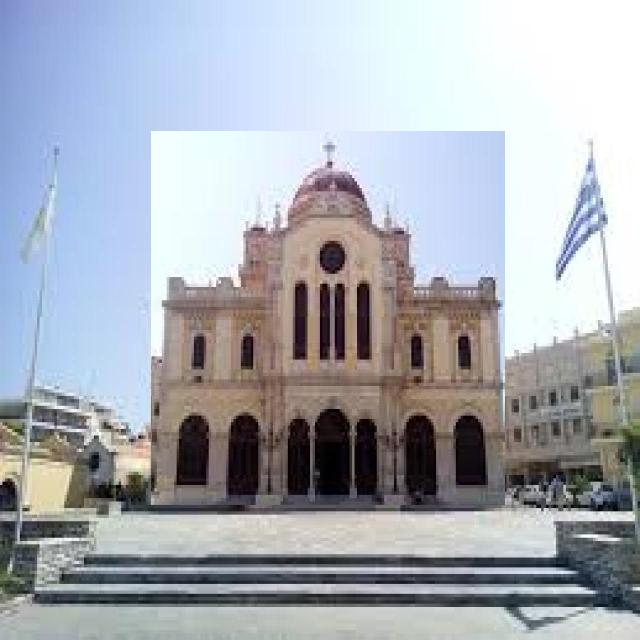Agios Minas: (152, 132, 506, 506)
